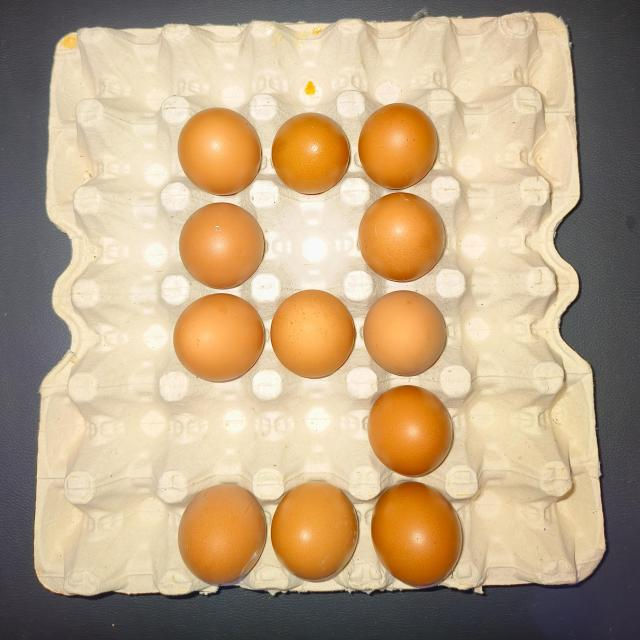Eggs: (370, 484, 465, 584), (179, 479, 265, 587), (274, 479, 358, 578), (368, 385, 452, 479), (166, 301, 265, 376), (270, 288, 354, 375), (175, 209, 270, 278), (362, 193, 442, 273), (368, 294, 448, 374), (278, 108, 354, 192), (185, 112, 260, 193), (361, 102, 434, 182)
